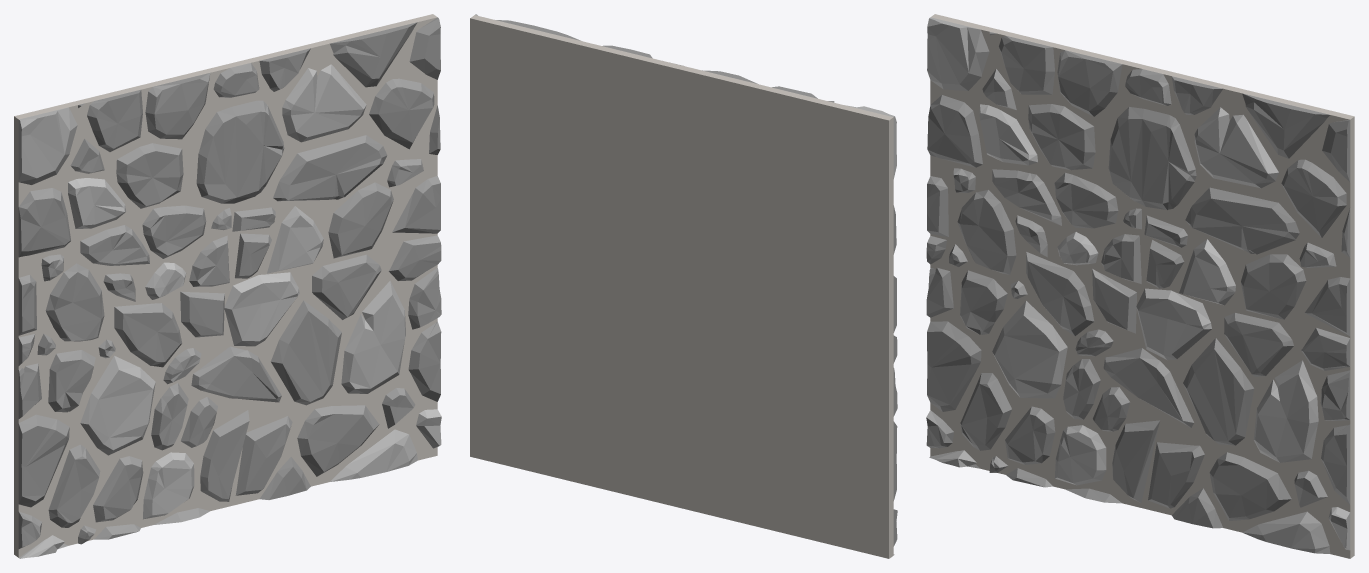
Rendered from _WALL_02_1.fbx.
3 views of the same model, side by side, from view 1: azimuth 30°, elevation 25°; view 2: azimuth 150°, elevation 25°; view 3: azimuth 330°, elevation 25° (orthographic).
Visible parts, largest first — view 1: WALL_02_1; view 2: WALL_02_1; view 3: WALL_02_1.
Boxes of the visible parts, x1,y1,x2,y2 form: WALL_02_1: (14,14,441,558); WALL_02_1: (470,14,897,558); WALL_02_1: (926,14,1354,558).
Size of the model in its own units: 300 by 300 by 12.
